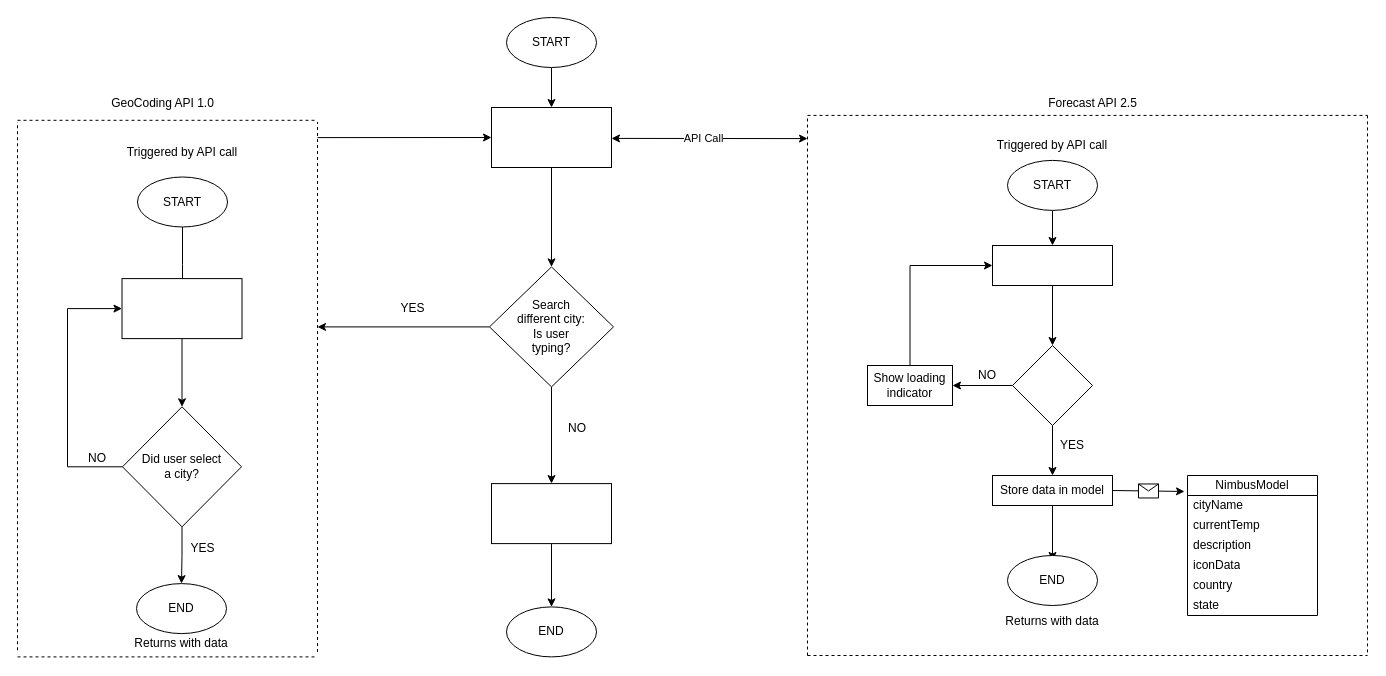
This 1386x676 diagram has some shape labels left out. Each missing label, with the centre of its shape:
"Build UI with data received" goes at point (551, 513).
"Data received?" goes at point (1052, 385).
"Fetch and filter city suggestions from API" goes at point (181, 308).
"Fetch API data" goes at point (1052, 265).
"Fetch weather data for the city" goes at point (551, 137).
